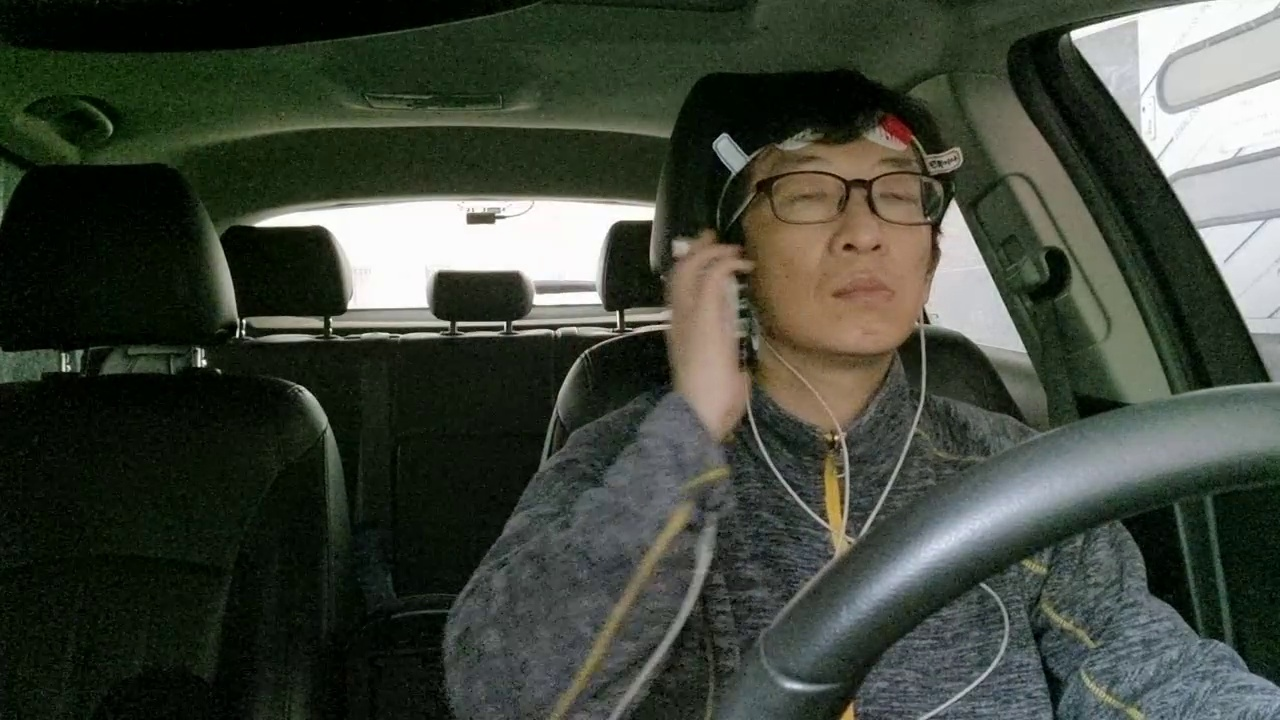phone: (643, 219, 800, 395)
